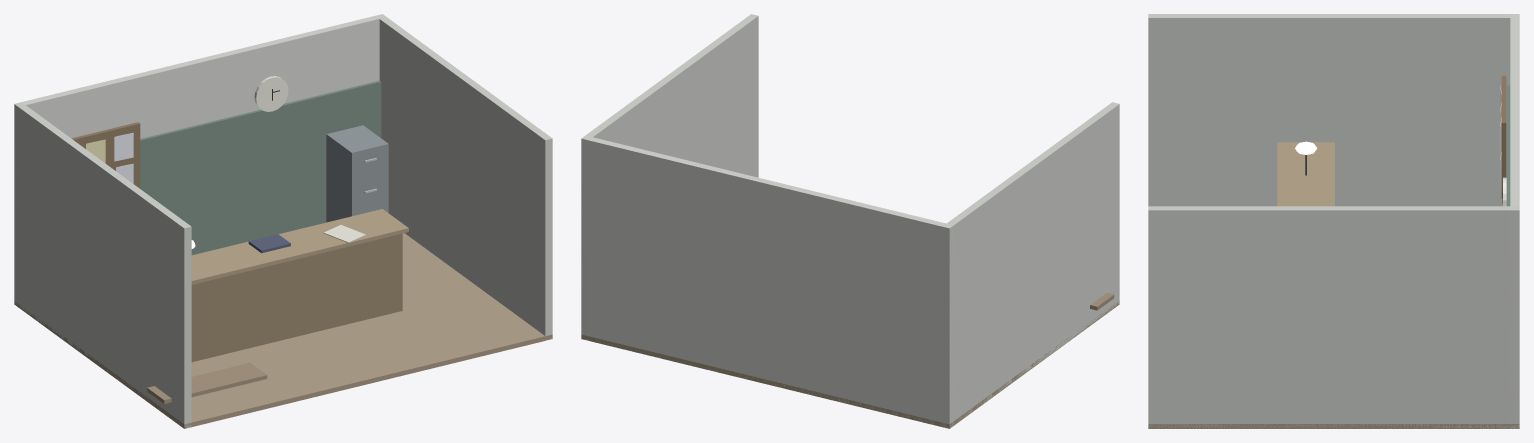
Rendered from town_police_interior_a.glb.
3 views of the same model, side by side, from view 1: azimuth 30°, elevation 25°; view 2: azimuth 150°, elevation 25°; view 3: azimuth 270°, elevation 25° (orthographic). The views are drawn at different scales.
Visible parts, largest first — view 1: body; view 2: body; view 3: body.
Boxes of the visible parts, x1=… form: body: x1=14, y1=14, x2=552, y2=428; body: x1=581, y1=14, x2=1119, y2=428; body: x1=1148, y1=14, x2=1519, y2=428.
Size of the model in its own units: 5.1 by 2.6 by 4.
